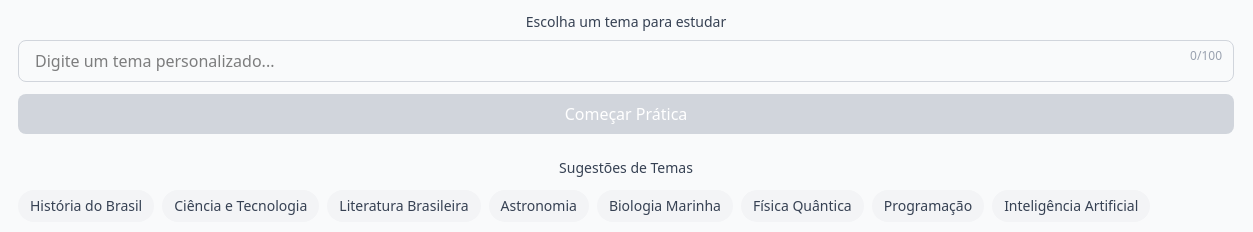
Scenario: ThemeSelector › Theme Validation › should update character counter as user types
Type "Test" into the field with placeholder "Digite um tema personalizado..." at point(626, 61), box [18,40,1234,82]
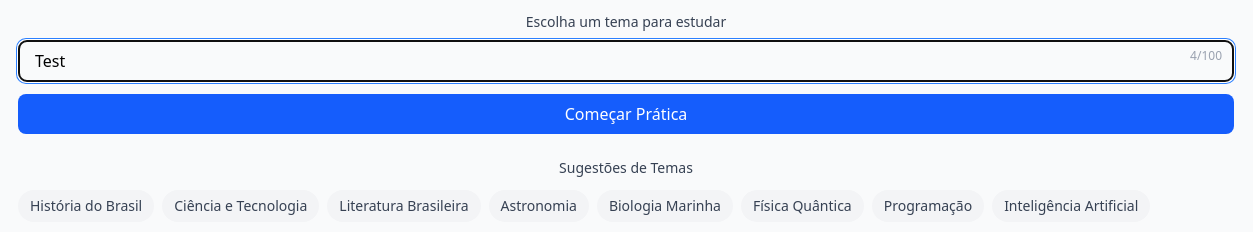
expect the text "4/100" is shown: met, box [1190,48,1222,64]
